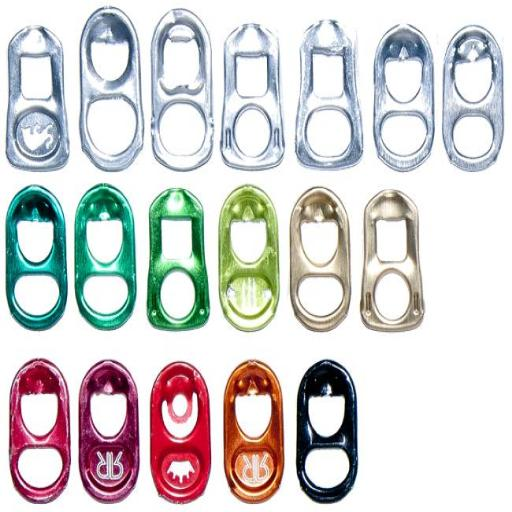pop tab: (77, 6, 145, 173), (150, 6, 216, 173), (294, 16, 364, 170), (220, 20, 286, 170), (6, 355, 72, 505), (358, 189, 426, 334), (440, 24, 506, 172), (216, 183, 280, 332), (146, 186, 211, 332), (294, 356, 358, 504), (74, 180, 137, 330), (6, 25, 70, 172), (77, 357, 140, 505), (373, 23, 435, 172), (5, 182, 66, 333), (222, 359, 285, 504), (289, 186, 351, 332), (150, 360, 212, 504)
